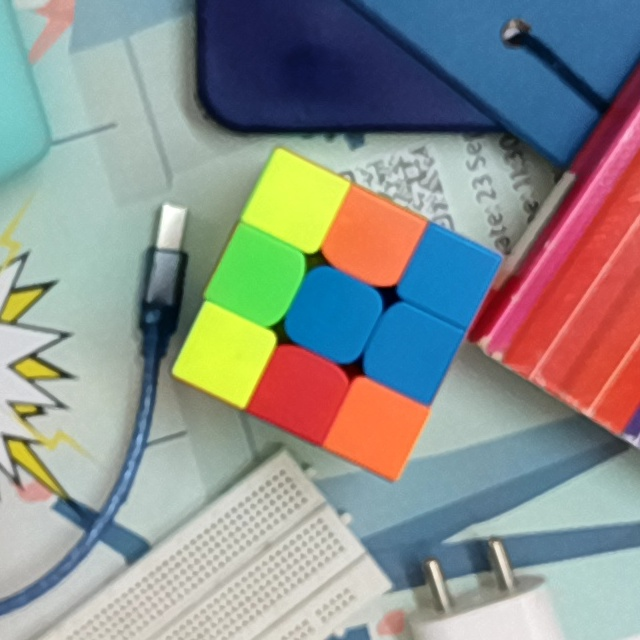tile: (342, 210, 402, 269), (231, 246, 289, 304), (421, 251, 480, 308), (305, 285, 364, 341), (382, 324, 442, 378), (349, 398, 402, 458), (269, 367, 330, 419), (196, 329, 253, 382), (267, 177, 322, 229)
